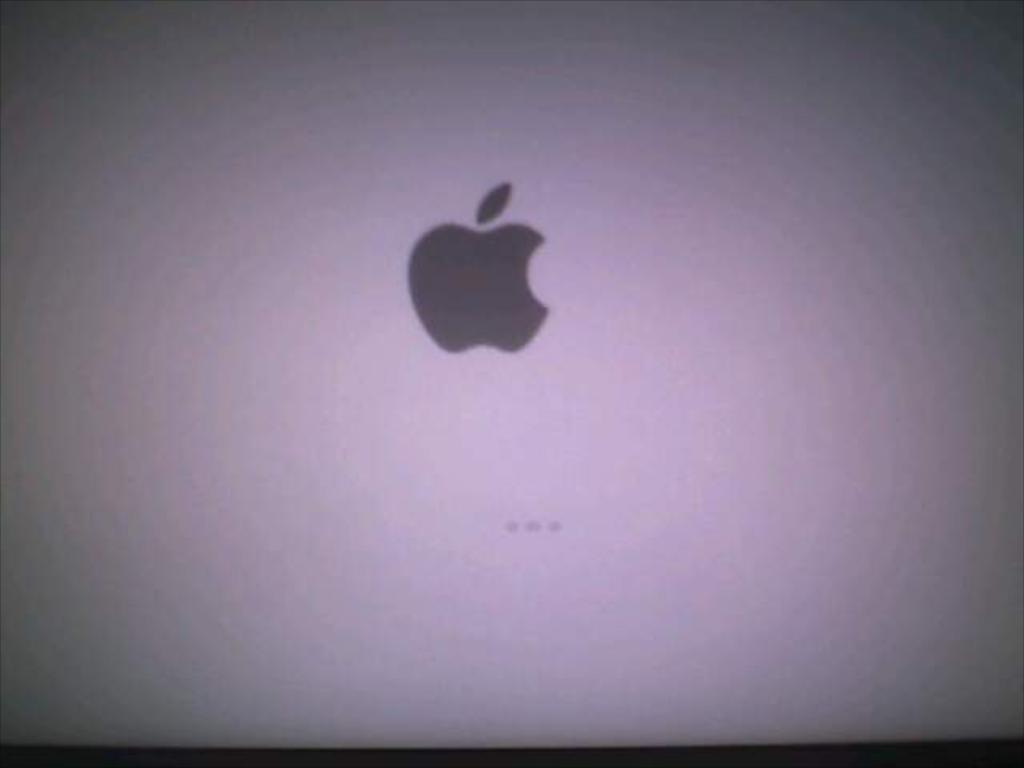Apple: (408, 180, 553, 355)
